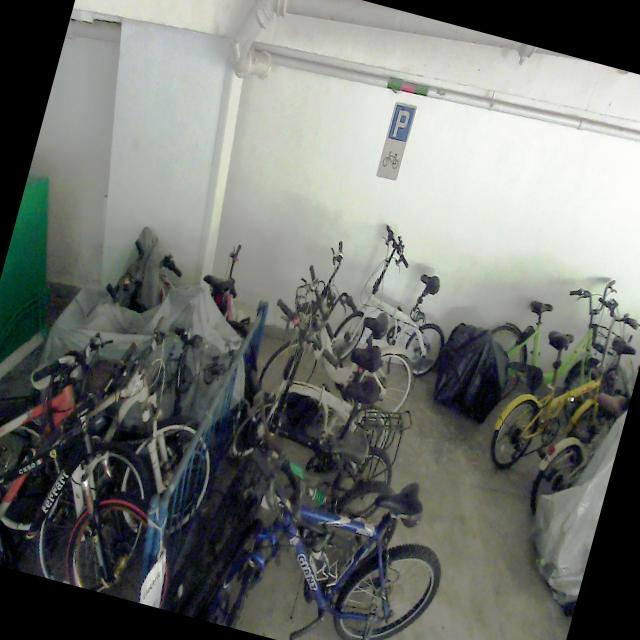bike: (0, 280, 246, 581), (176, 429, 462, 640), (0, 305, 189, 599), (213, 348, 414, 554), (255, 228, 442, 428), (228, 294, 415, 494), (465, 252, 640, 449), (485, 277, 640, 494), (328, 218, 471, 384)
